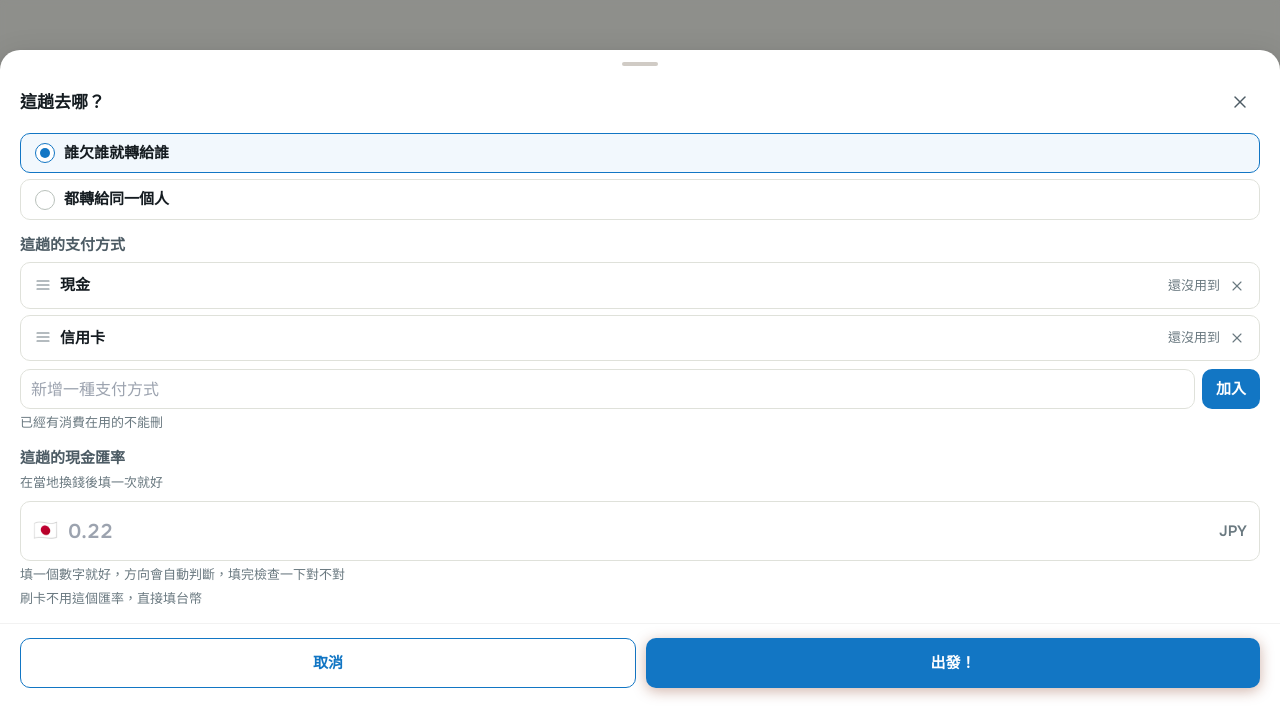
it: Q-①a　畫面：一個空格＋白話那一行＋換個方向 › 填 0.21 → 出現「1 日圓 ＝ 0.21 台幣」；按「換個方向」→ 變成「1 台幣 ＝ 0.21 日圓」
(page scrolled)
Expected: the heading "這趟去哪？" is shown, [20,90,105,115]
Type "0.21" into the field with id "rate-one" at point(636, 531), box [68,511,1203,551]
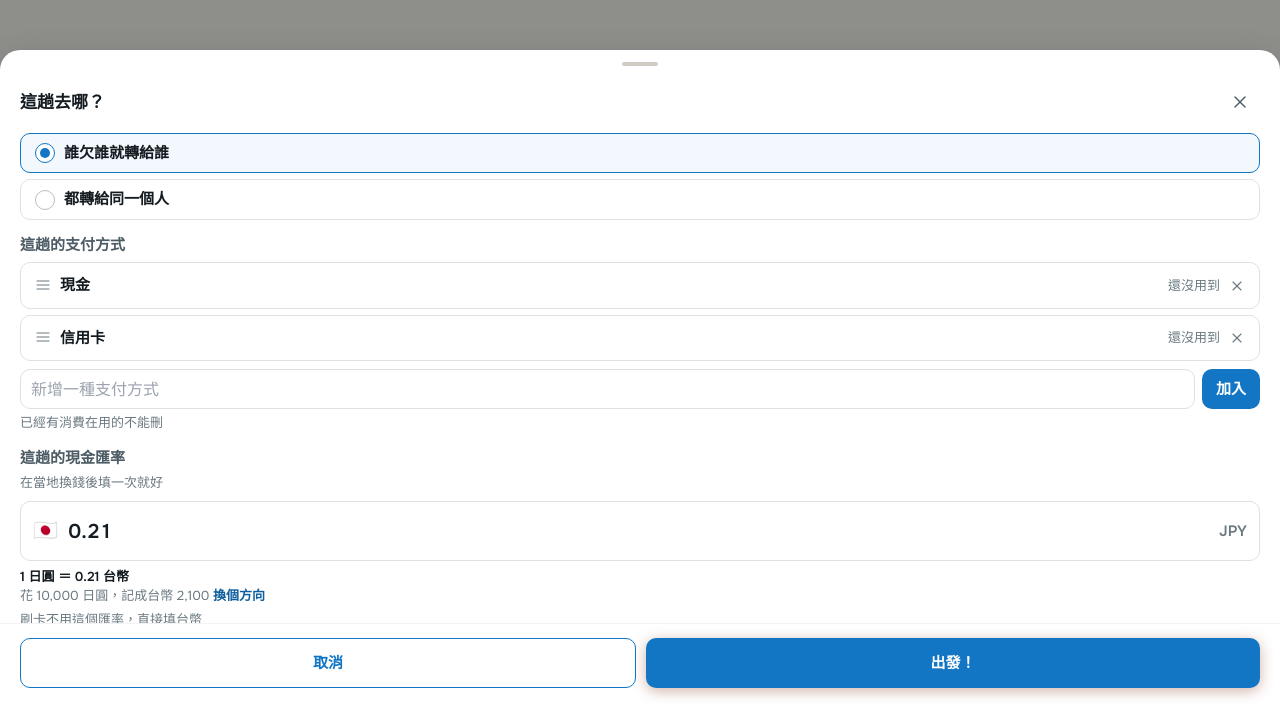
Now the text "1 日圓 ＝ 0.21 台幣" is shown, box [20,568,129,585]
Click the button "換個方向" at point(239, 597), box [201,574,277,619]
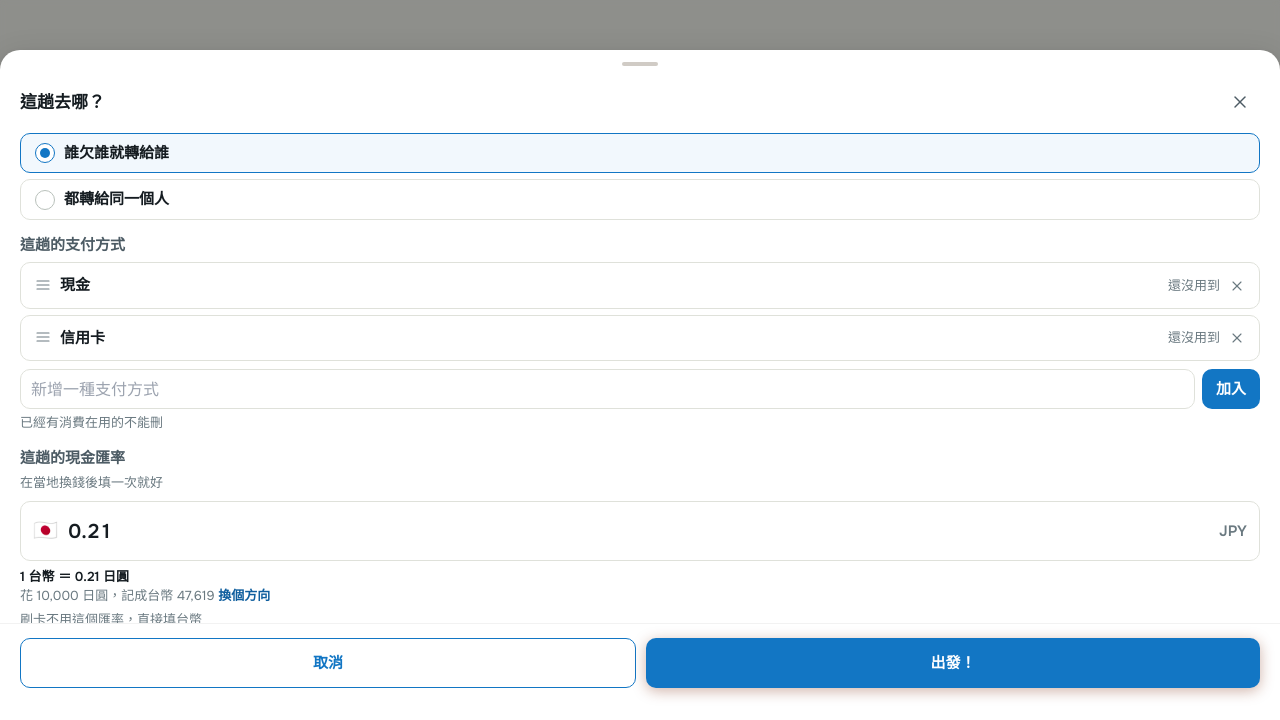
Now the text "1 台幣 ＝ 0.21 日圓" is shown, box [20,568,129,585]
